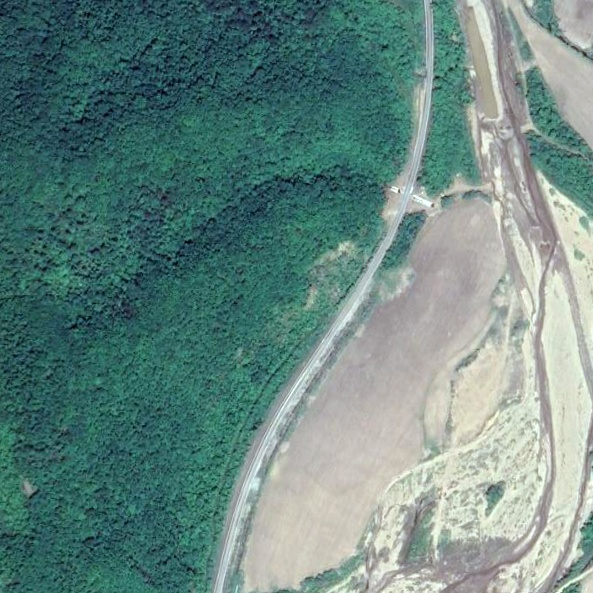slope: (447, 284, 528, 444), (301, 240, 368, 314), (436, 168, 495, 201)
